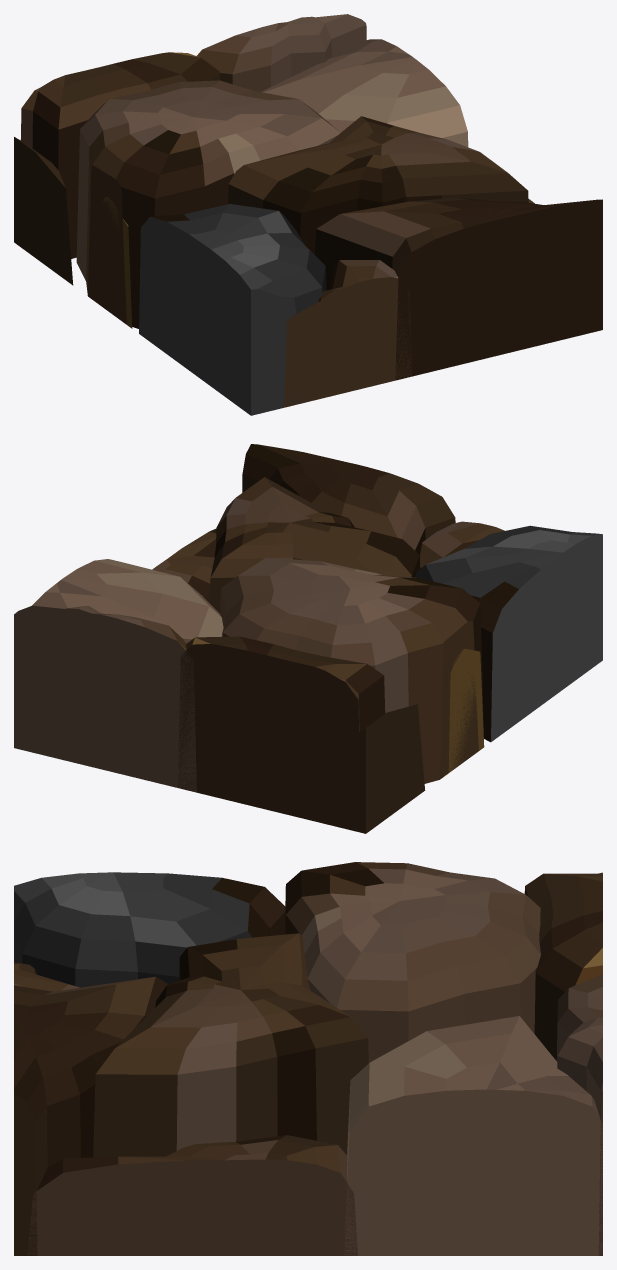
File: newshr-231.glb
3 views of the same model, one above another, from view 1: azimuth 30°, elevation 25°; view 2: azimuth 150°, elevation 25°; view 3: azimuth 270°, elevation 25° (orthographic). The views are drawn at different scales.
Visible parts, largest first — view 1: newshr-231; view 2: newshr-231; view 3: newshr-231.
Boxes of the visible parts, x1,y1,x2,y2 form: newshr-231: (14, 14, 602, 415); newshr-231: (14, 444, 602, 833); newshr-231: (14, 862, 602, 1255).
Bounding box in the file's own units: 2 × 0.8764 × 2.33.
